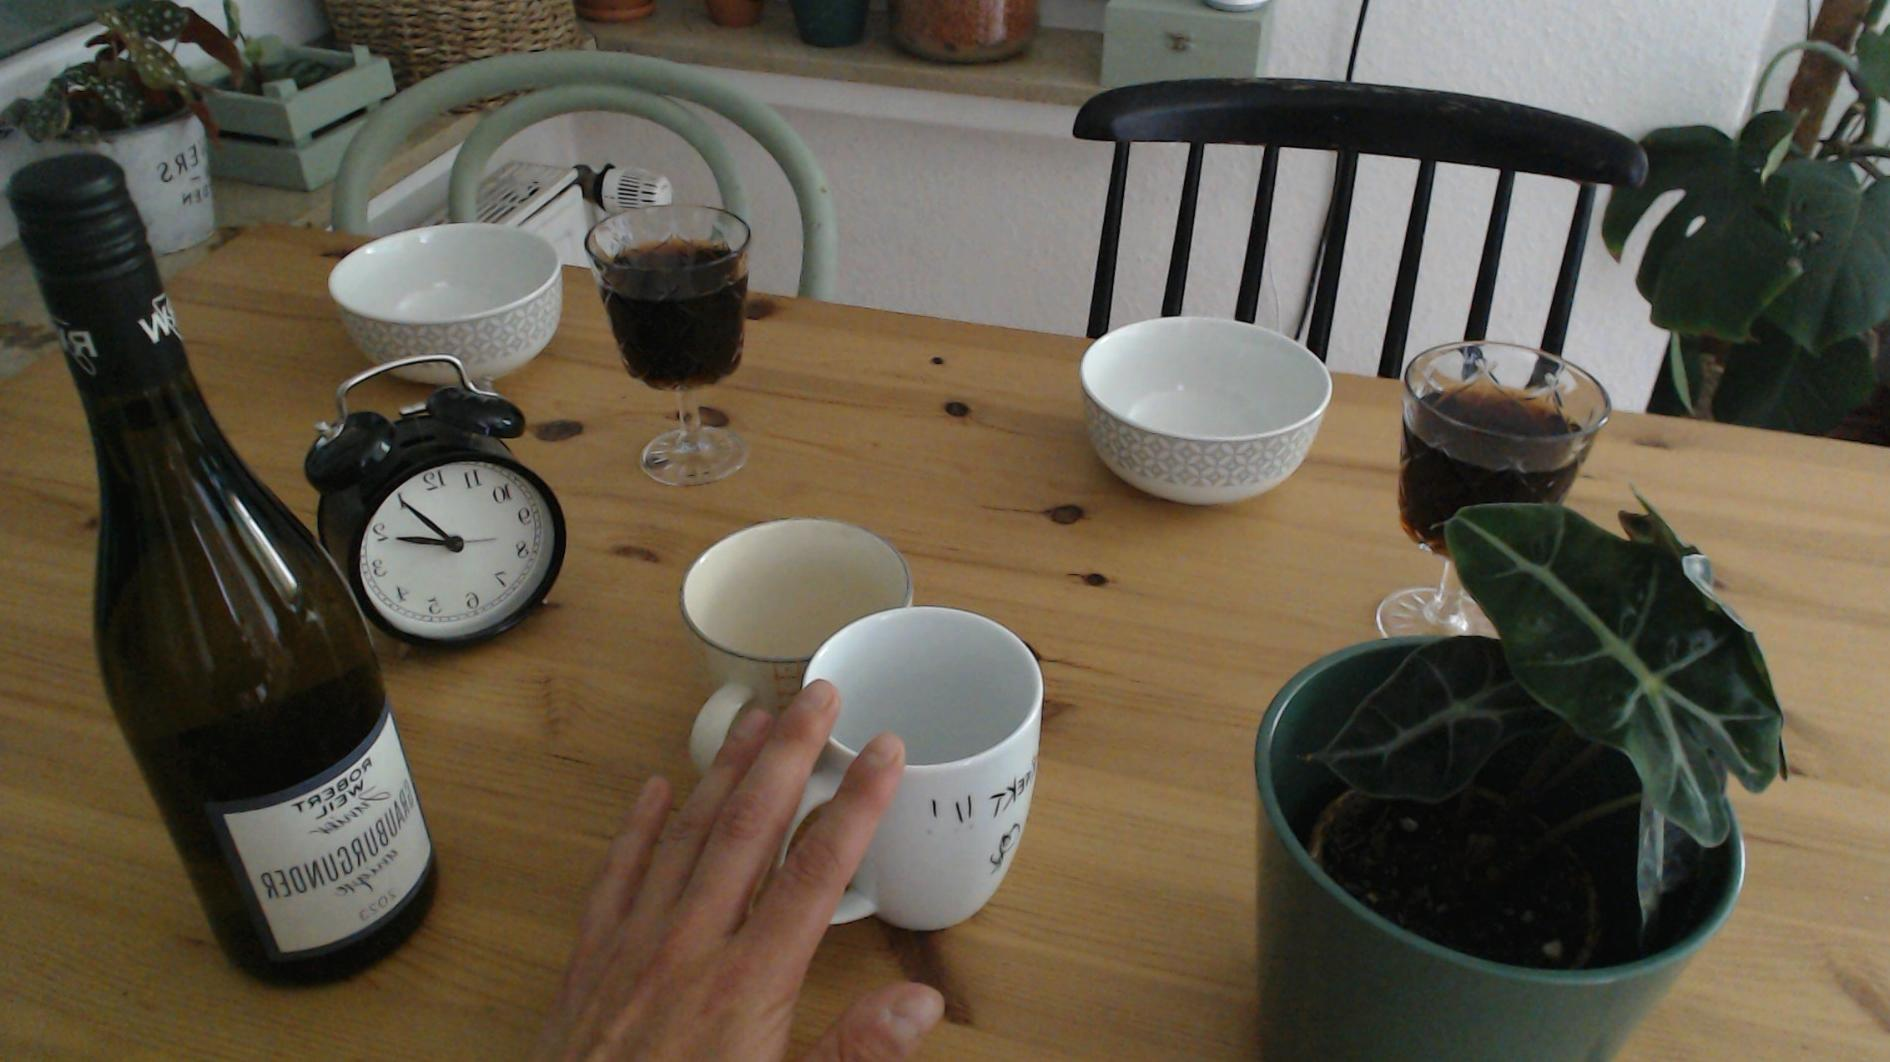bottle: (13, 151, 439, 984)
bowl_close: (1077, 315, 1332, 508)
bowl_far: (327, 222, 563, 382)
clock: (354, 456, 563, 641)
cup_close: (804, 605, 1046, 933)
cup_far: (679, 515, 910, 737)
hand_close: (559, 682, 926, 1062)
potted_plant: (1255, 491, 1785, 1062)
wineglass_close: (1375, 338, 1611, 637)
wineglass_far: (585, 201, 752, 488)
